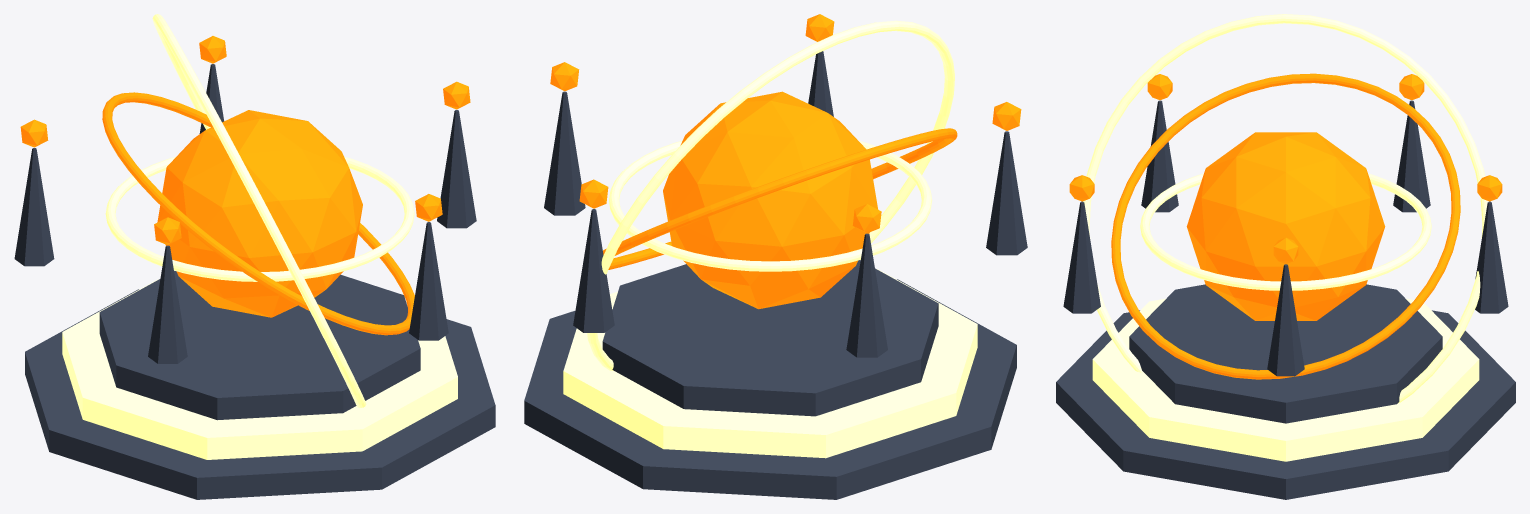
Rendered from gpu-blender-v51.glb.
3 renders of one model, left to right at view 1: azimuth 30°, elevation 25°; view 2: azimuth 150°, elevation 25°; view 3: azimuth 270°, elevation 25°, orthographic. The views are drawn at different scales.
Visible parts, largest first — view 1: Cylinder.002, SovereignCore_reality-shader-forge, Cylinder, Cylinder.001, Torus.001, Torus.002, Torus, Cone.002, Cone.004, Cone.003, Cone, Icosphere.001 (+5 smaller); view 2: Cylinder.002, SovereignCore_reality-shader-forge, Cylinder, Cylinder.001, Torus.002, Torus, Torus.001, Cone.003, Cone.002, Cone, Cone.001, Cone.004 (+5 smaller); view 3: SovereignCore_reality-shader-forge, Cylinder.002, Cylinder, Cylinder.001, Torus.001, Torus.002, Torus, Cone, Cone.004, Cone.001, Cone.002, Cone.003 (+5 smaller).
Part boxes in pixels (x1,y1,x2,y2): Cylinder.002: [99, 271, 420, 420]; SovereignCore_reality-shader-forge: [157, 110, 362, 317]; Cylinder: [25, 289, 495, 499]; Cylinder.001: [62, 279, 457, 459]; Torus.001: [102, 92, 414, 335]; Torus.002: [152, 14, 366, 407]; Torus: [105, 156, 414, 281]; Cone.002: [14, 148, 54, 266]; Cone.004: [409, 222, 448, 340]; Cone.003: [148, 245, 187, 363]; Cone: [437, 110, 476, 228]; Icosphere.001: [199, 36, 226, 63]; Cylinder.002: [602, 260, 938, 416]; SovereignCore_reality-shader-forge: [663, 91, 877, 309]; Cylinder: [524, 279, 1016, 499]; Cylinder.001: [563, 269, 977, 458]; Torus.002: [587, 20, 954, 370]; Torus: [609, 140, 932, 271]; Torus.001: [603, 128, 957, 269]; Cone.003: [986, 131, 1027, 255]; Cone.002: [846, 233, 887, 357]; Cone: [544, 91, 585, 215]; Cone.001: [573, 209, 614, 332]; Cone.004: [808, 51, 833, 116]; SovereignCore_reality-shader-forge: [1186, 132, 1385, 320]; Cylinder.002: [1129, 284, 1442, 423]; Cylinder: [1056, 310, 1515, 499]; Cylinder.001: [1092, 298, 1479, 461]; Torus.001: [1111, 73, 1460, 379]; Torus.002: [1083, 14, 1488, 403]; Torus: [1140, 173, 1431, 290]; Cone: [1267, 264, 1304, 376]; Cone.004: [1063, 201, 1100, 313]; Cone.001: [1475, 201, 1508, 313]; Cone.002: [1393, 100, 1430, 212]; Cone.003: [1141, 100, 1178, 212].
Bounding box in the file's own units: 4.41 × 3.72 × 4.4.
